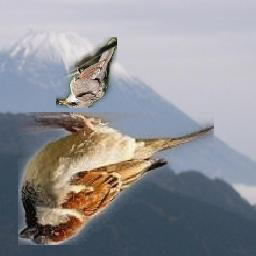Cuckoo: (57, 38, 118, 109)
Sparrow: (18, 113, 214, 246)
